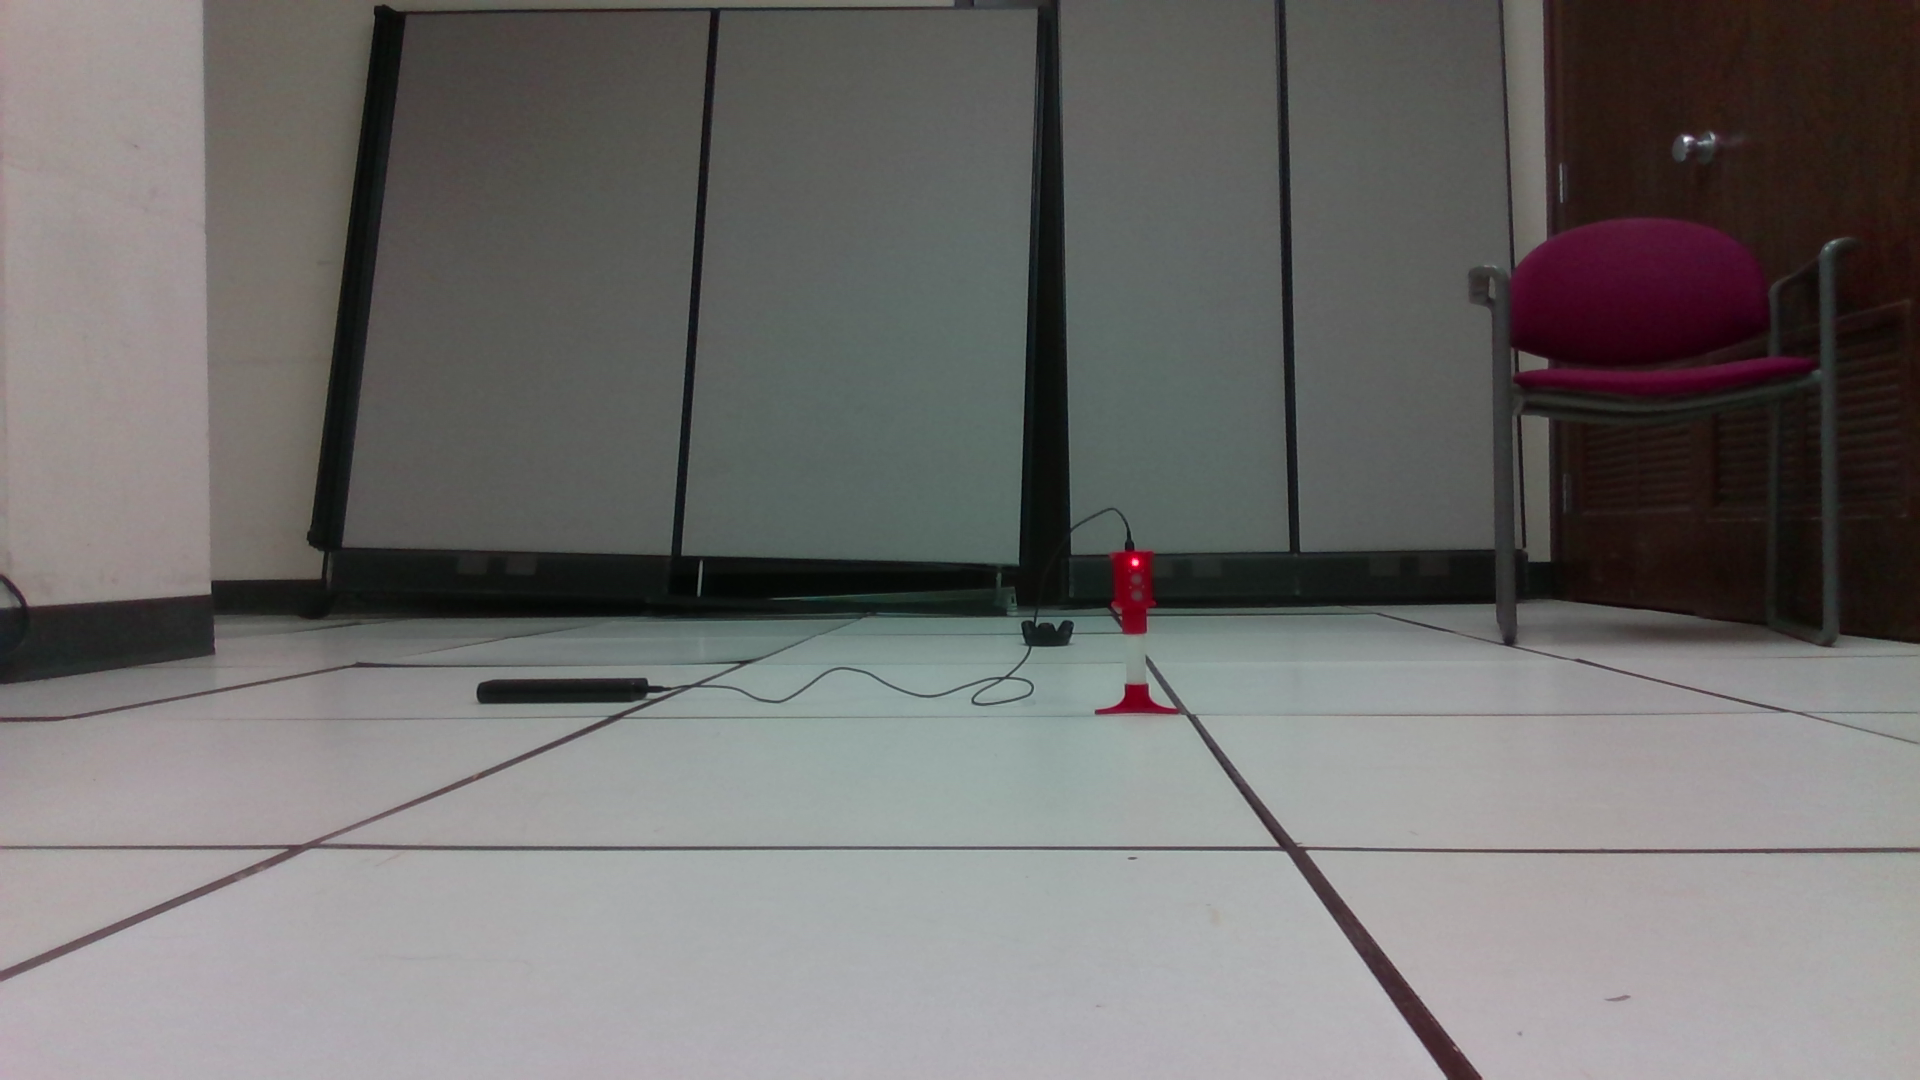stoplight: (1108, 551, 1159, 636)
